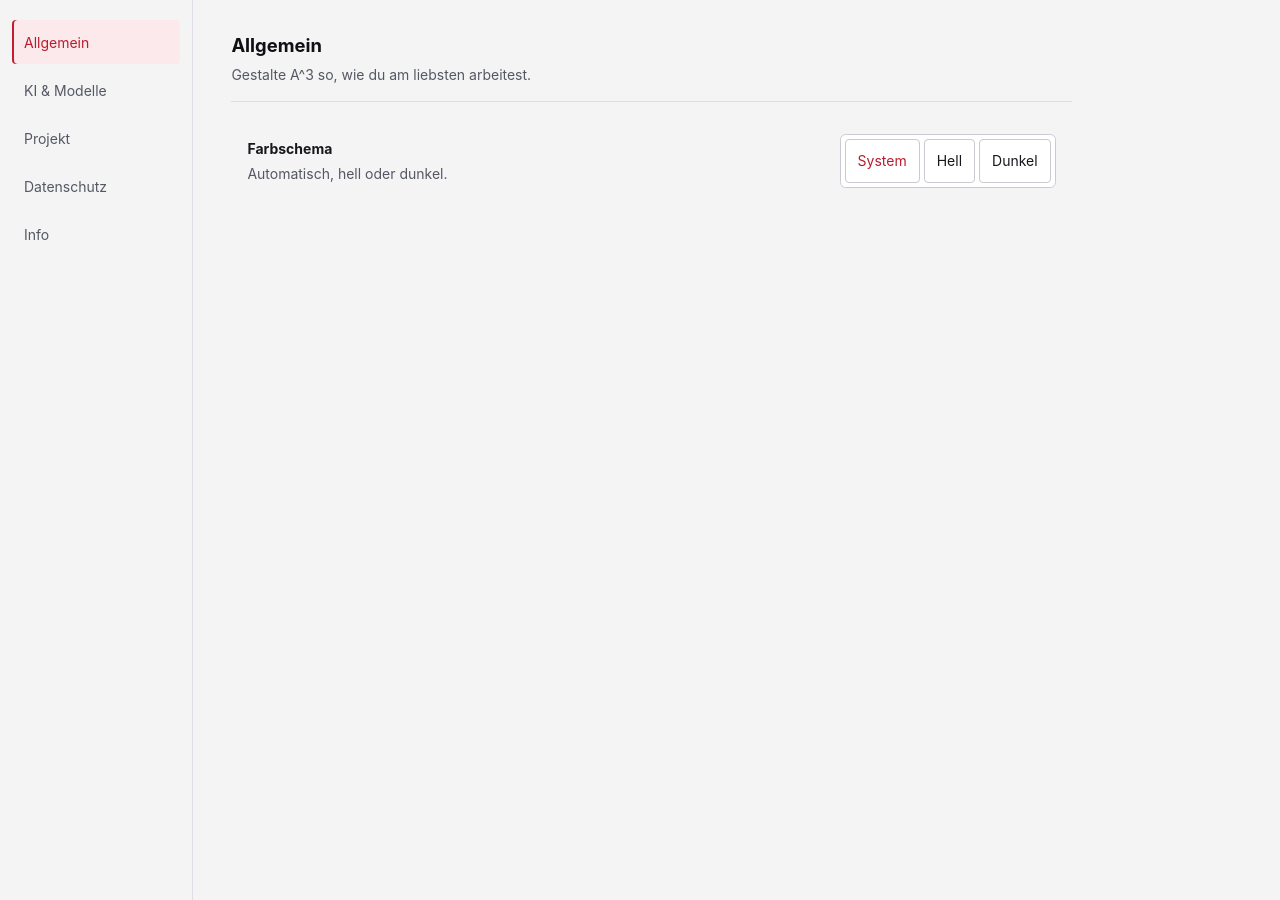
Test: SettingsPanel › uses top tabs and keeps the model setup flow clear without a provider
expect the heading "Allgemein" is shown: met, box top-left (231, 34), bottom-right (322, 56)
expect the navigation bar named "Einstellungsbereiche" is shown: met, box top-left (0, 0), bottom-right (192, 276)
Step 1. Click the button "KI & Modelle" → (96, 90), box top-left (12, 68), bottom-right (180, 112)
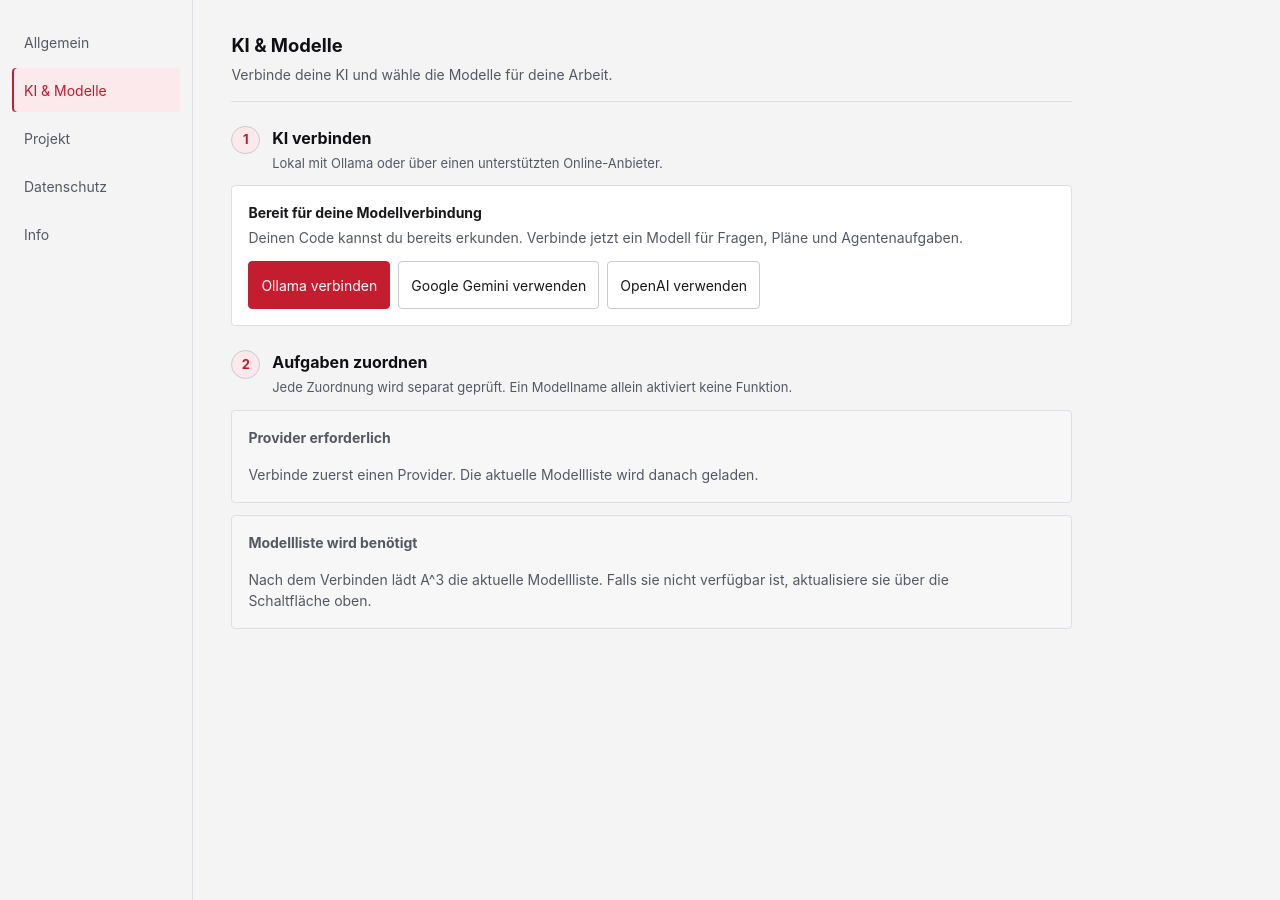
expect the text "Bereit für deine Modellverbindung" is shown: met, box top-left (248, 204), bottom-right (482, 221)
expect the button "Ollama verbinden" is shown: met, box top-left (248, 261), bottom-right (390, 309)
expect the button "OpenAI verwenden" is shown: met, box top-left (607, 261), bottom-right (760, 309)
